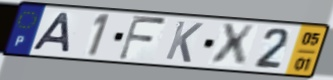1: (88, 13, 112, 59)
2: (251, 27, 291, 72)
A: (30, 11, 73, 55)
F: (115, 14, 169, 63)
K: (163, 19, 206, 65)
X: (210, 22, 258, 68)
